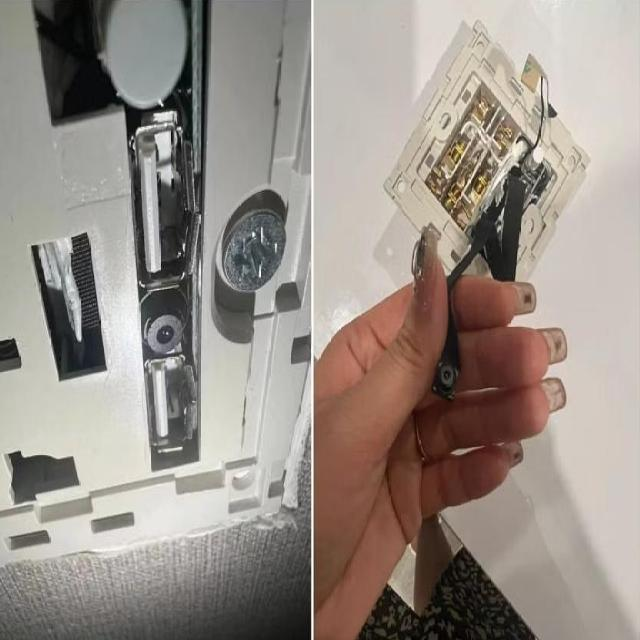hidden camera: (142, 300, 185, 358), (435, 354, 458, 399)
